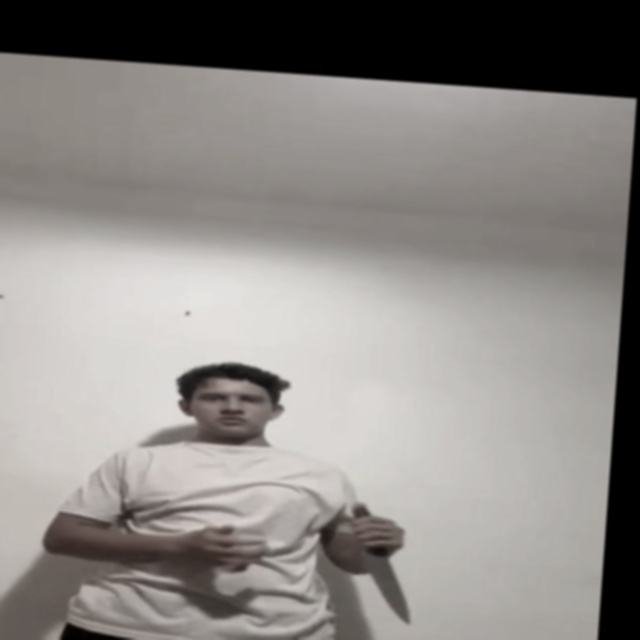Sharp-Object: (359, 549, 416, 624)
